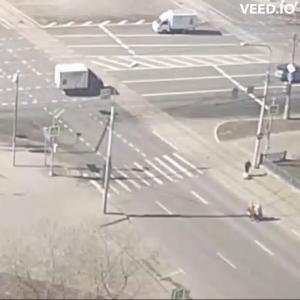car: (56, 59, 106, 97), (150, 13, 194, 35), (273, 64, 300, 81)
